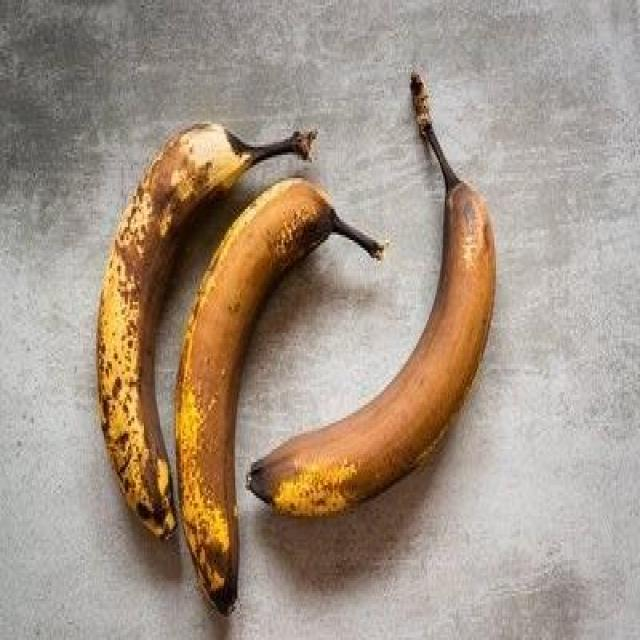organic: (94, 124, 384, 619), (248, 75, 499, 521)
